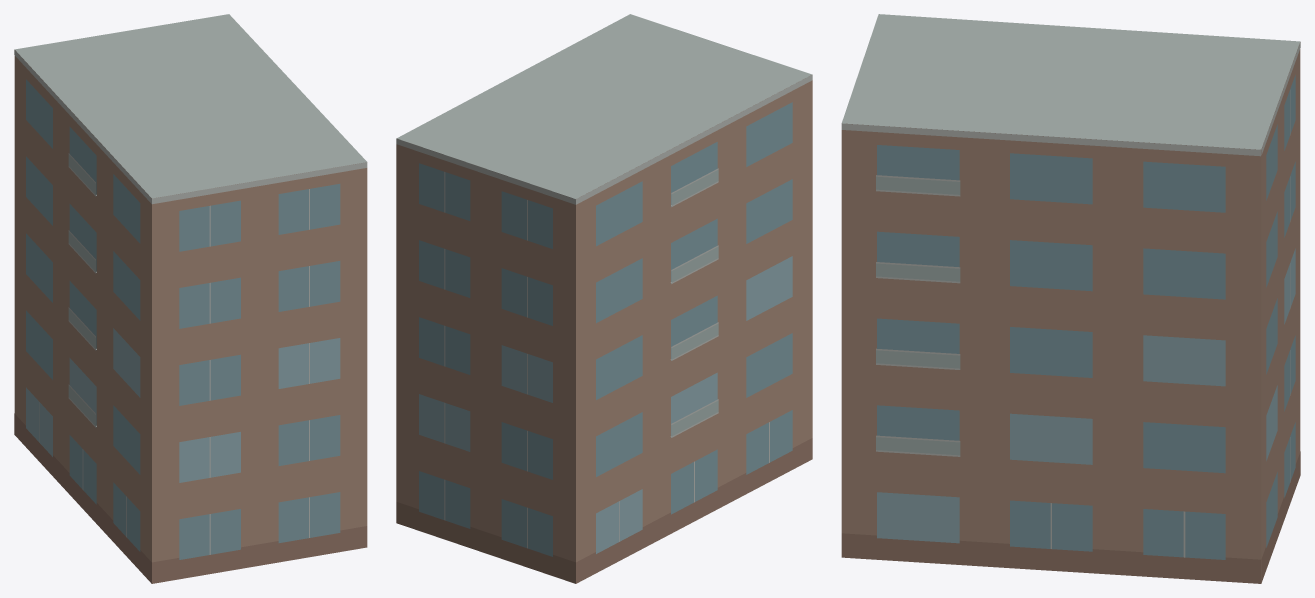
File: survey-upis-32677984.glb
3 views of the same model, side by side, from view 1: azimuth 30°, elevation 25°; view 2: azimuth 150°, elevation 25°; view 3: azimuth 270°, elevation 25° (orthographic). The views are drawn at different scales.
Parts seen in each view (by area): view 1: survey-upis-32677984.tmp; view 2: survey-upis-32677984.tmp; view 3: survey-upis-32677984.tmp.
Part boxes in pixels (x1,y1,x2,y2): survey-upis-32677984.tmp: [14, 14, 367, 583]; survey-upis-32677984.tmp: [396, 14, 812, 583]; survey-upis-32677984.tmp: [841, 14, 1300, 583].
Size of the model in its own units: 11.01 by 16.4 by 15.72.
